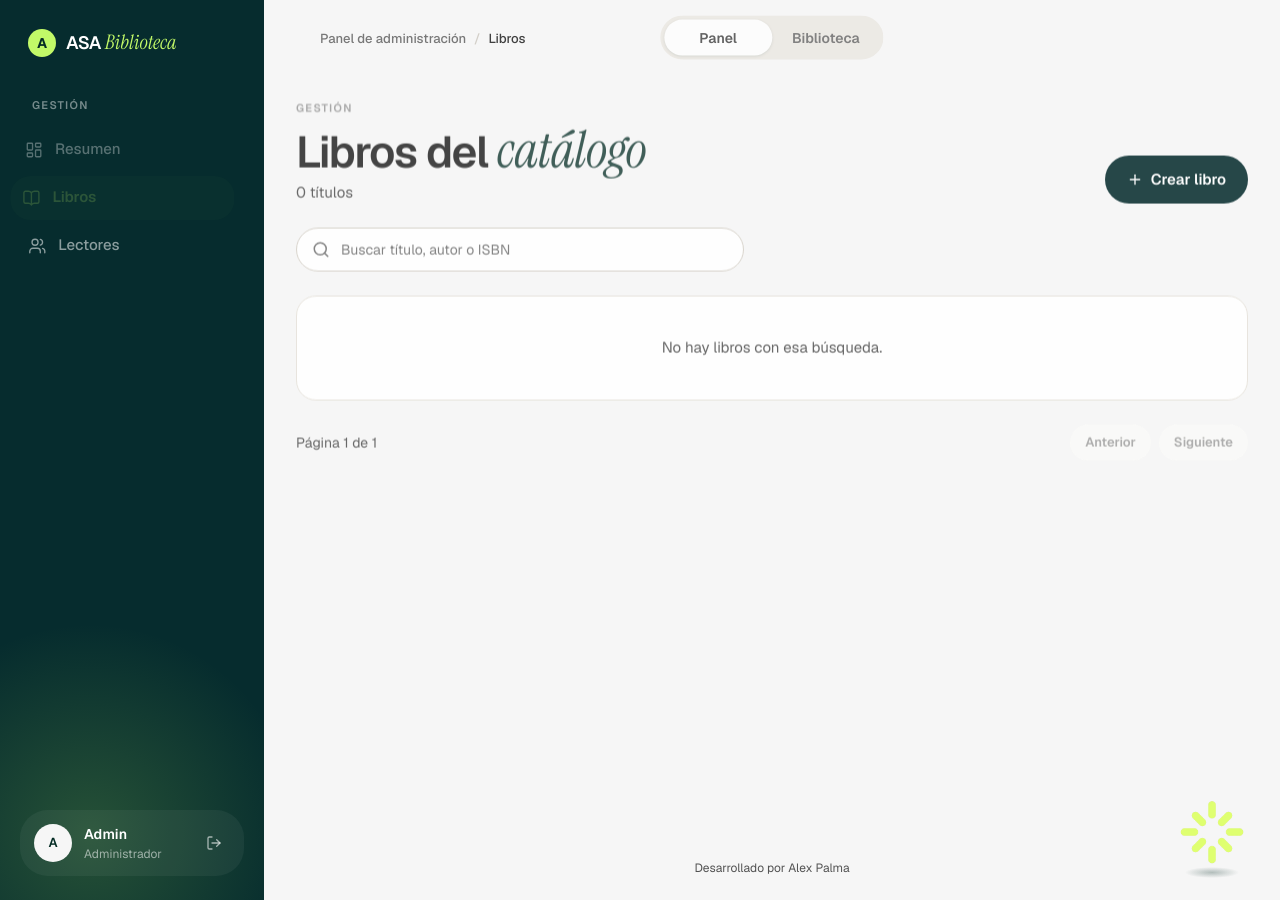
it: formularios de admin: errores generales › libro: el ISBN duplicado va al campo y no a la alerta
Click the button "Crear libro": (1176, 180) x1=1105 y1=156 x2=1248 y2=204
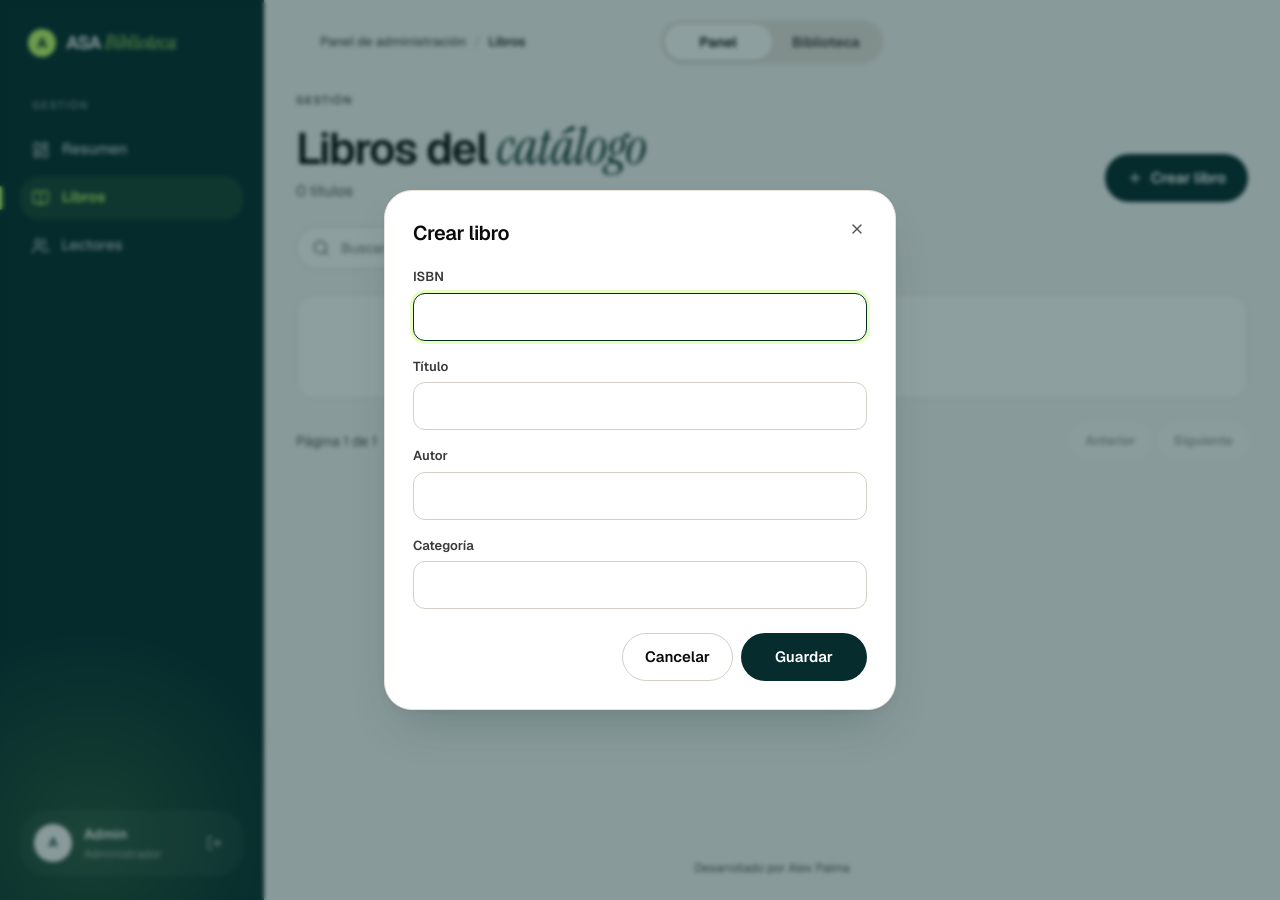
In the field labelled "ISBN": (640, 316) x1=413 y1=292 x2=867 y2=340, type "9780306406157"
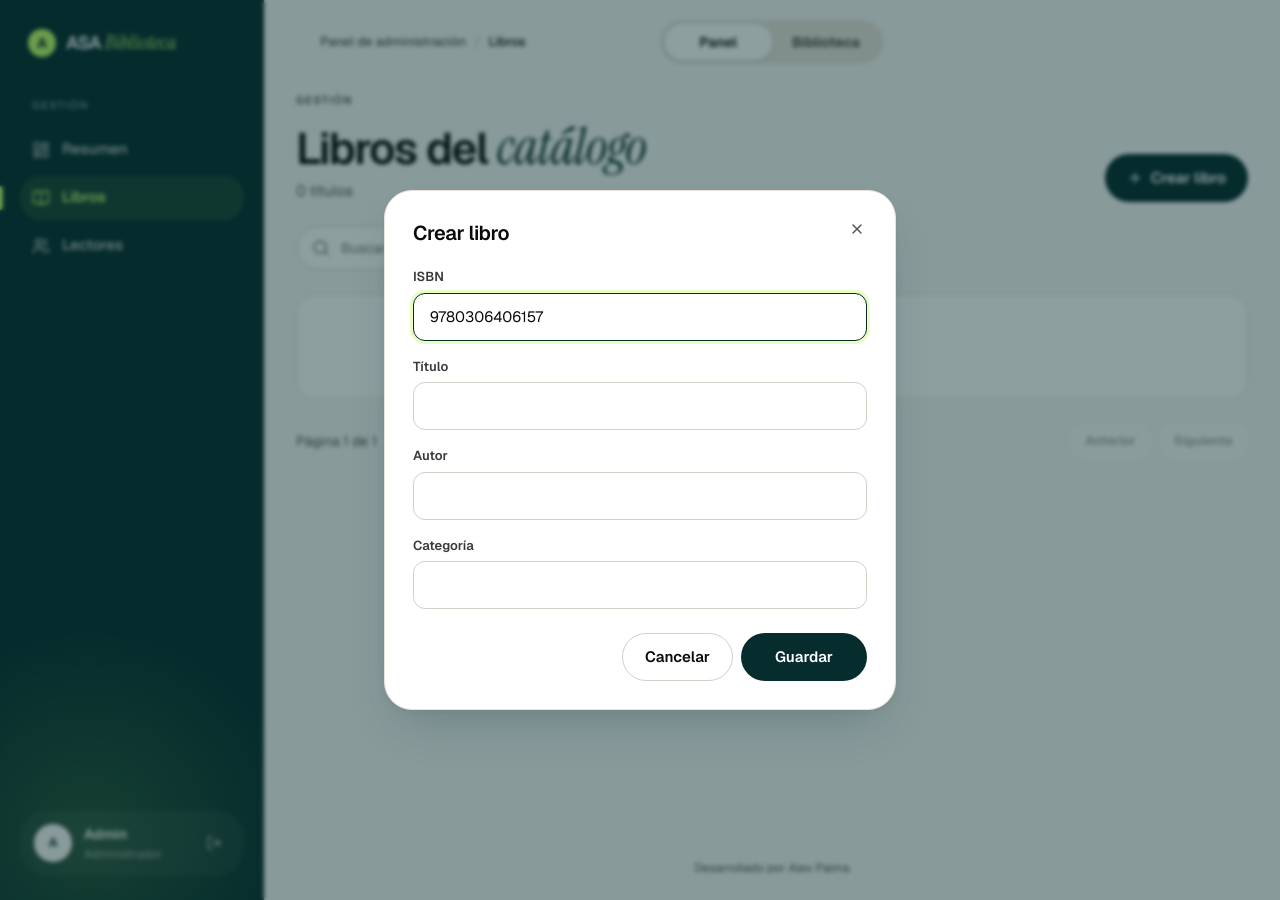
In the field labelled "Título": (640, 406) x1=413 y1=382 x2=867 y2=430, type "Rayuela"
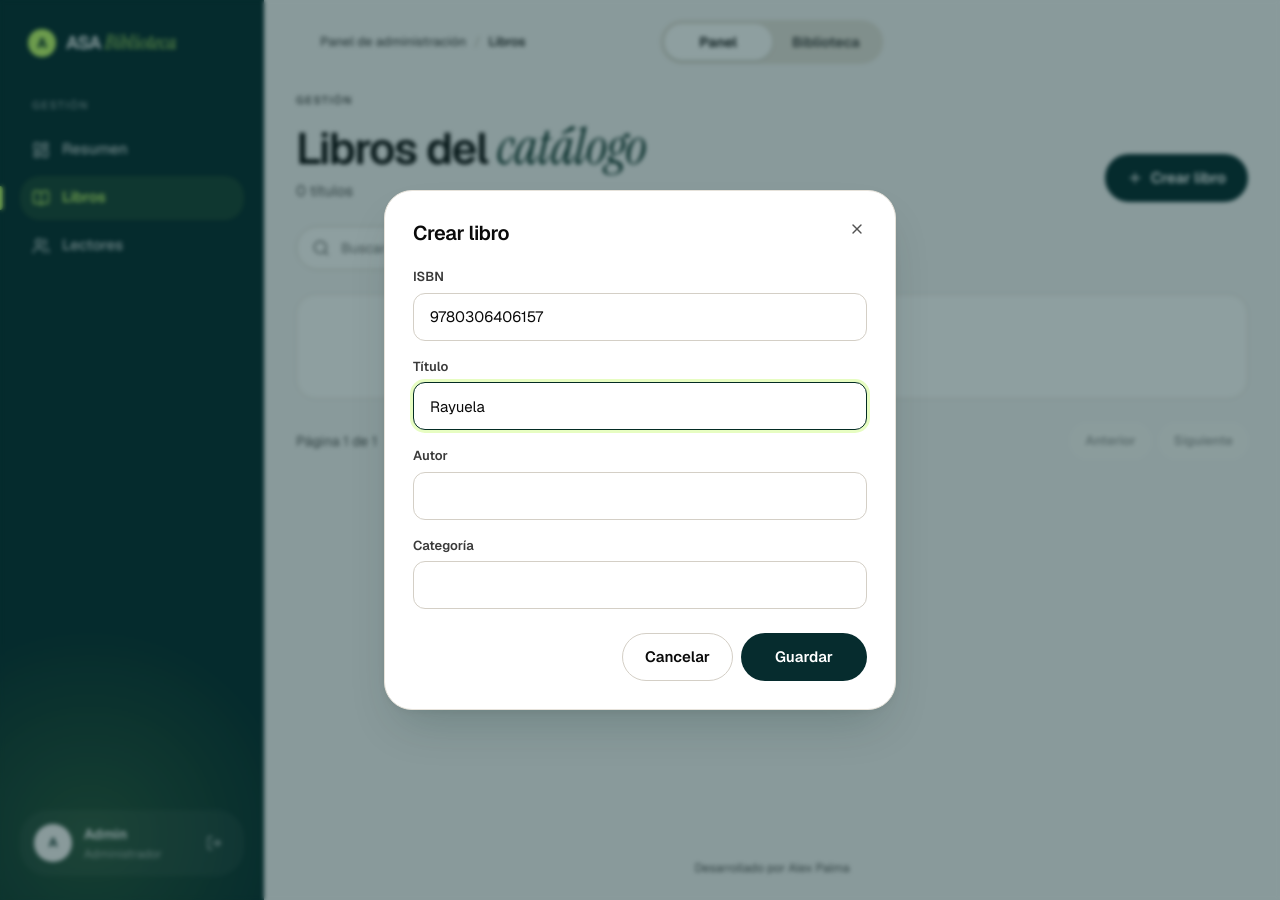
In the field labelled "Autor": (640, 496) x1=413 y1=472 x2=867 y2=520, type "Julio Cortázar"
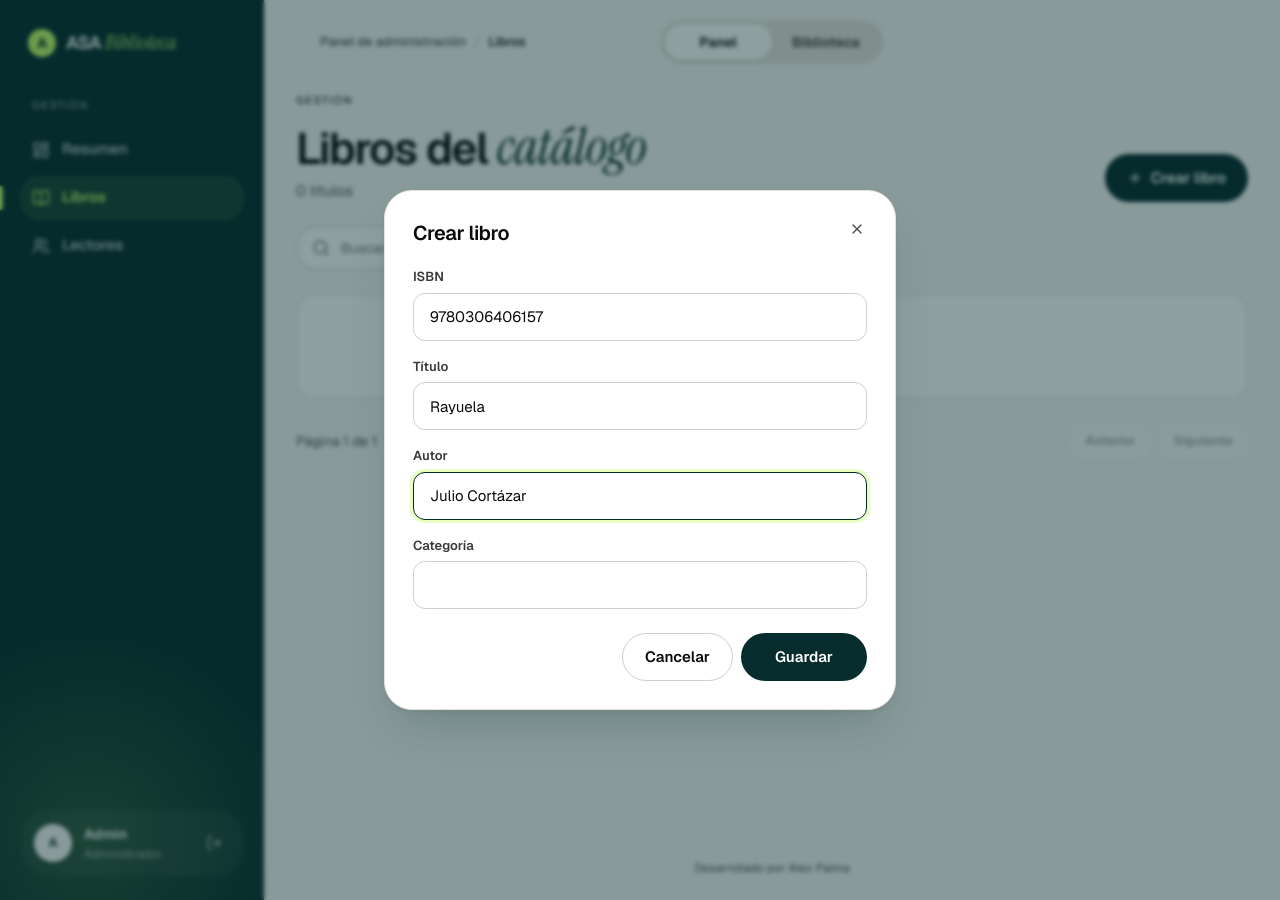
In the field labelled "Categoría": (640, 585) x1=413 y1=561 x2=867 y2=609, type "Novela"
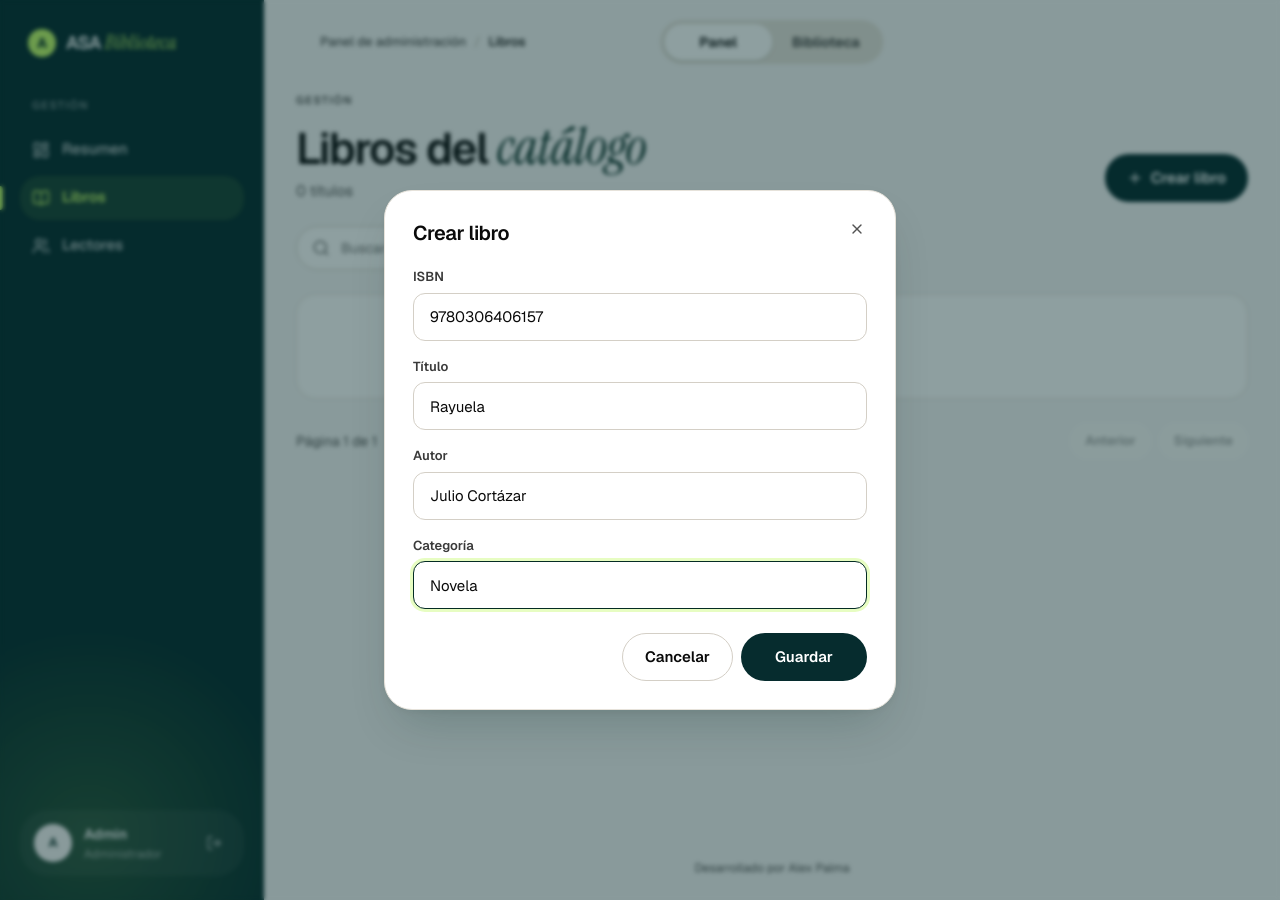
Click the button "Guardar": (804, 657) x1=741 y1=633 x2=867 y2=681
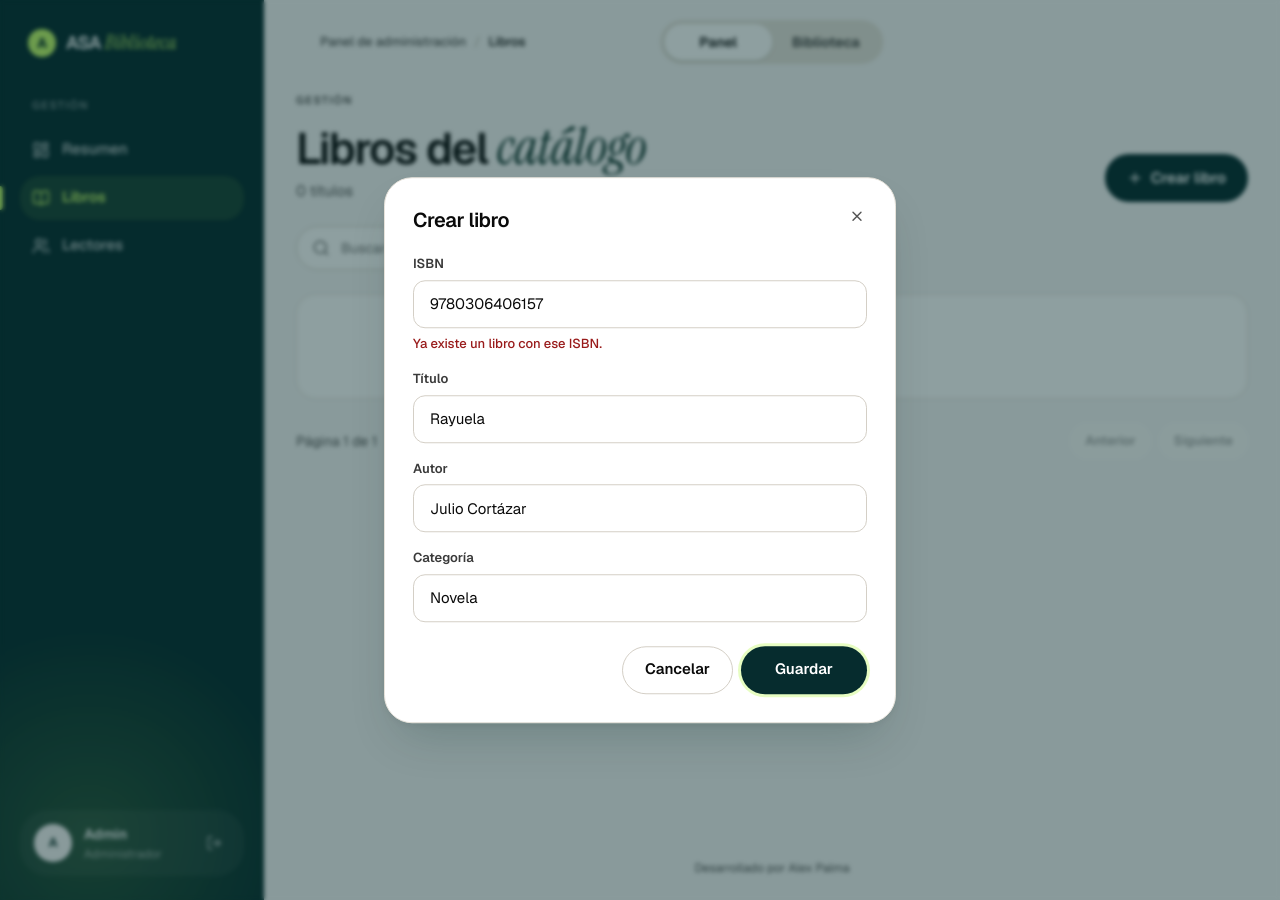
Check: the text "Ya existe un libro con ese ISBN." is shown, box x1=413 y1=335 x2=602 y2=352
